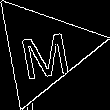M_N: (15, 20, 72, 79)
